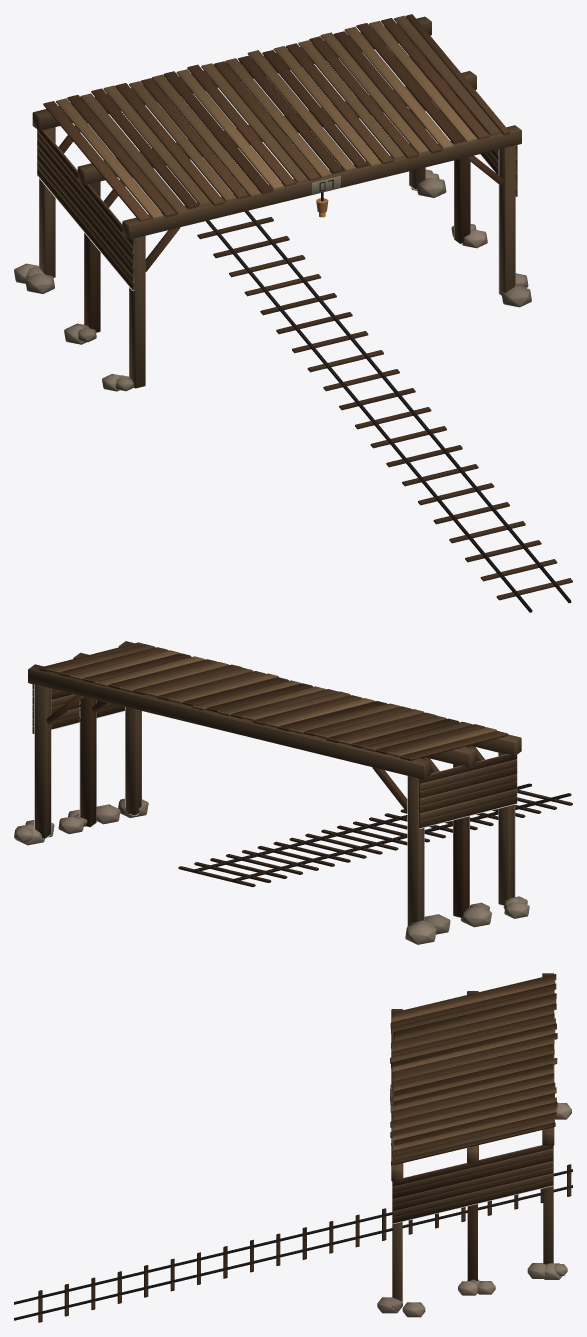
File: isle_adit_portal.glb
3 renders of one model, top to bottom at view 1: azimuth 30°, elevation 25°; view 2: azimuth 150°, elevation 25°; view 3: azimuth 270°, elevation 25°, orthographic. The views are drawn at different scales.
Visible parts, largest first — view 1: isle_adit_portal, isle_adit_portal-col-col; view 2: isle_adit_portal, isle_adit_portal-col-col; view 3: isle_adit_portal.
Boxes of the visible parts, box(x1,y1,x2,y2) form: isle_adit_portal: box(14, 14, 572, 612); isle_adit_portal-col-col: box(37, 110, 517, 388); isle_adit_portal: box(14, 641, 572, 944); isle_adit_portal-col-col: box(32, 684, 517, 926); isle_adit_portal: box(14, 973, 572, 1322).
Size of the model in its own units: 21.92 by 15.43 by 29.6.
